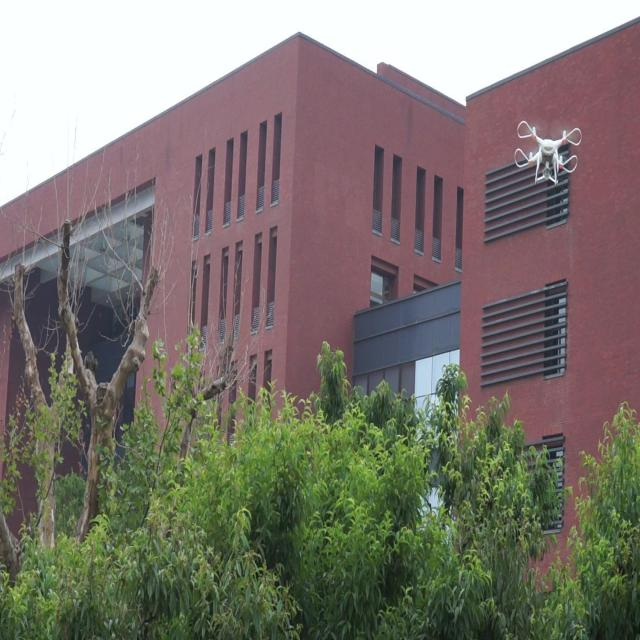drone: (514, 116, 582, 190)
